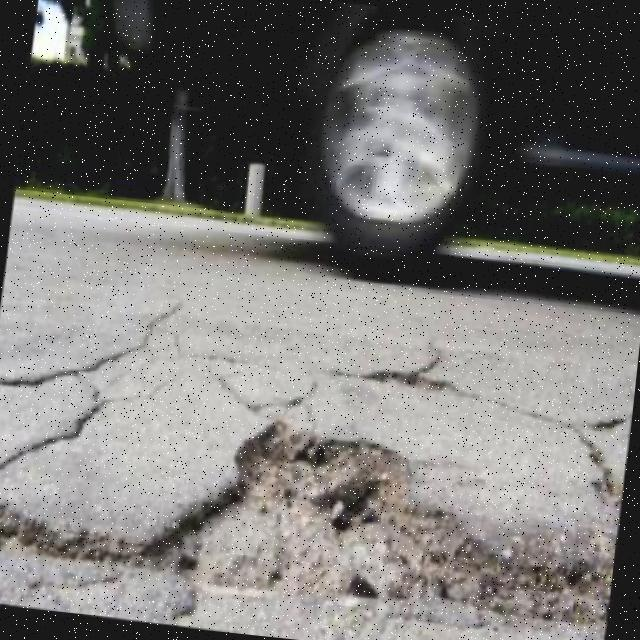Pothole: (0, 424, 616, 629)
